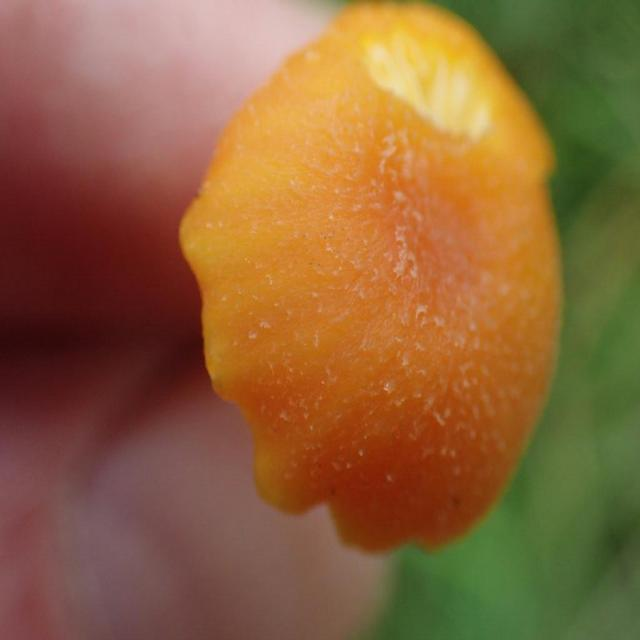Cantharellus cibarius: (179, 3, 566, 546)
